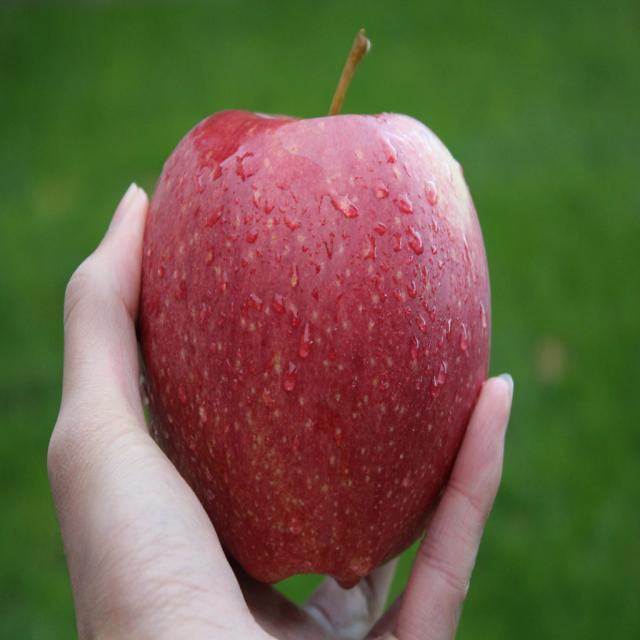Apple: (139, 26, 497, 590)
